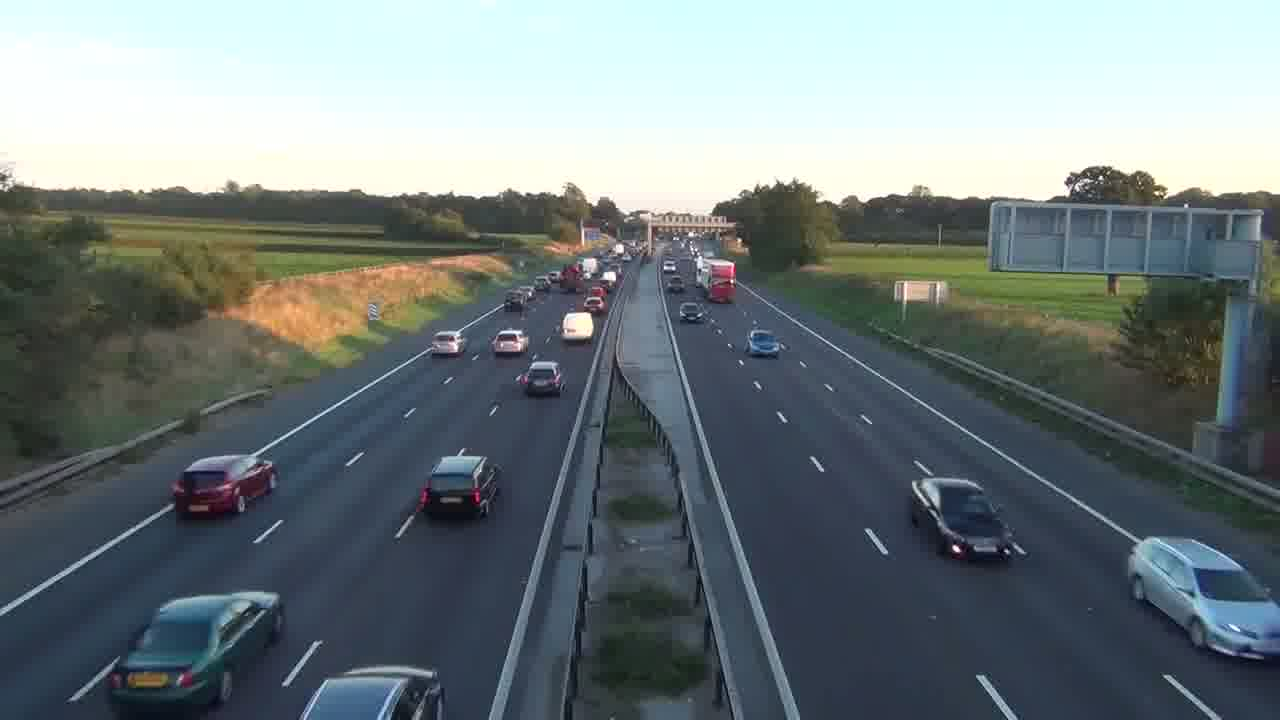car: (105, 589, 286, 712), (1127, 534, 1279, 661), (909, 475, 1026, 563), (298, 664, 446, 719), (170, 454, 277, 519), (416, 452, 502, 519), (523, 359, 564, 397), (491, 327, 529, 356), (745, 329, 782, 358), (430, 328, 467, 357)
truck: (105, 589, 286, 712)
